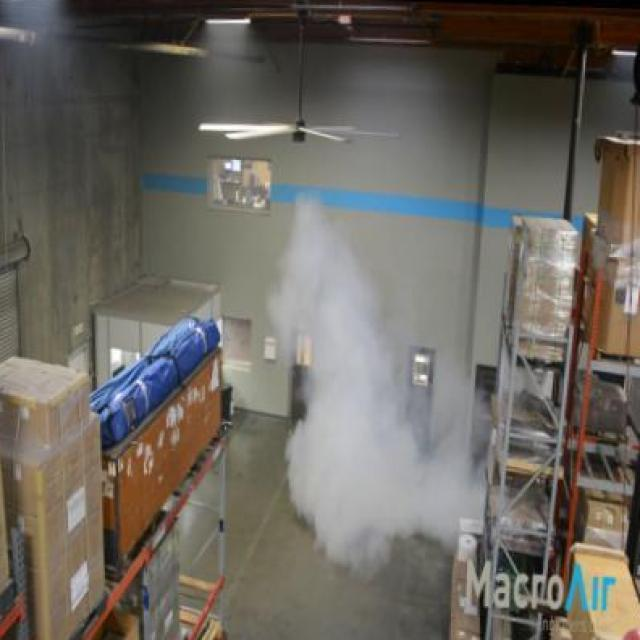fire: (260, 191, 453, 578)
